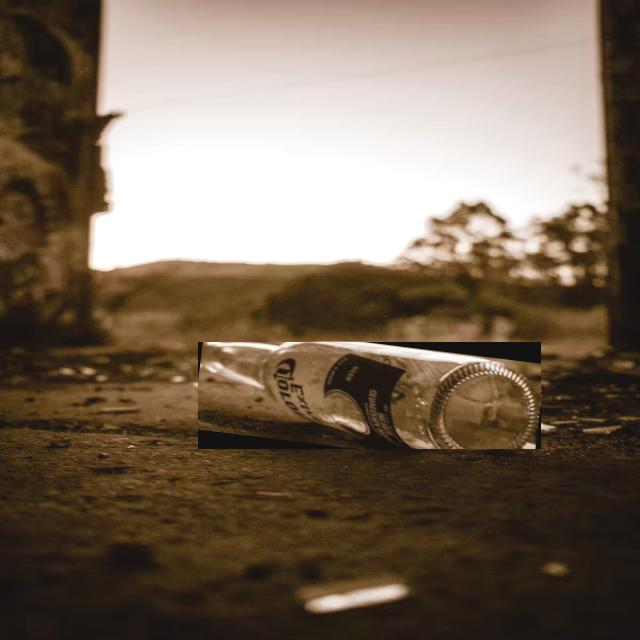Bottle: (199, 343, 539, 449)
